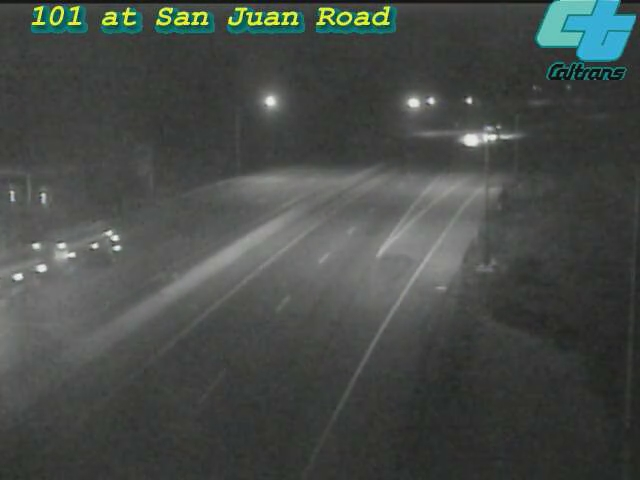vehicle: (1, 243, 67, 323), (470, 107, 520, 157), (449, 114, 499, 164)
